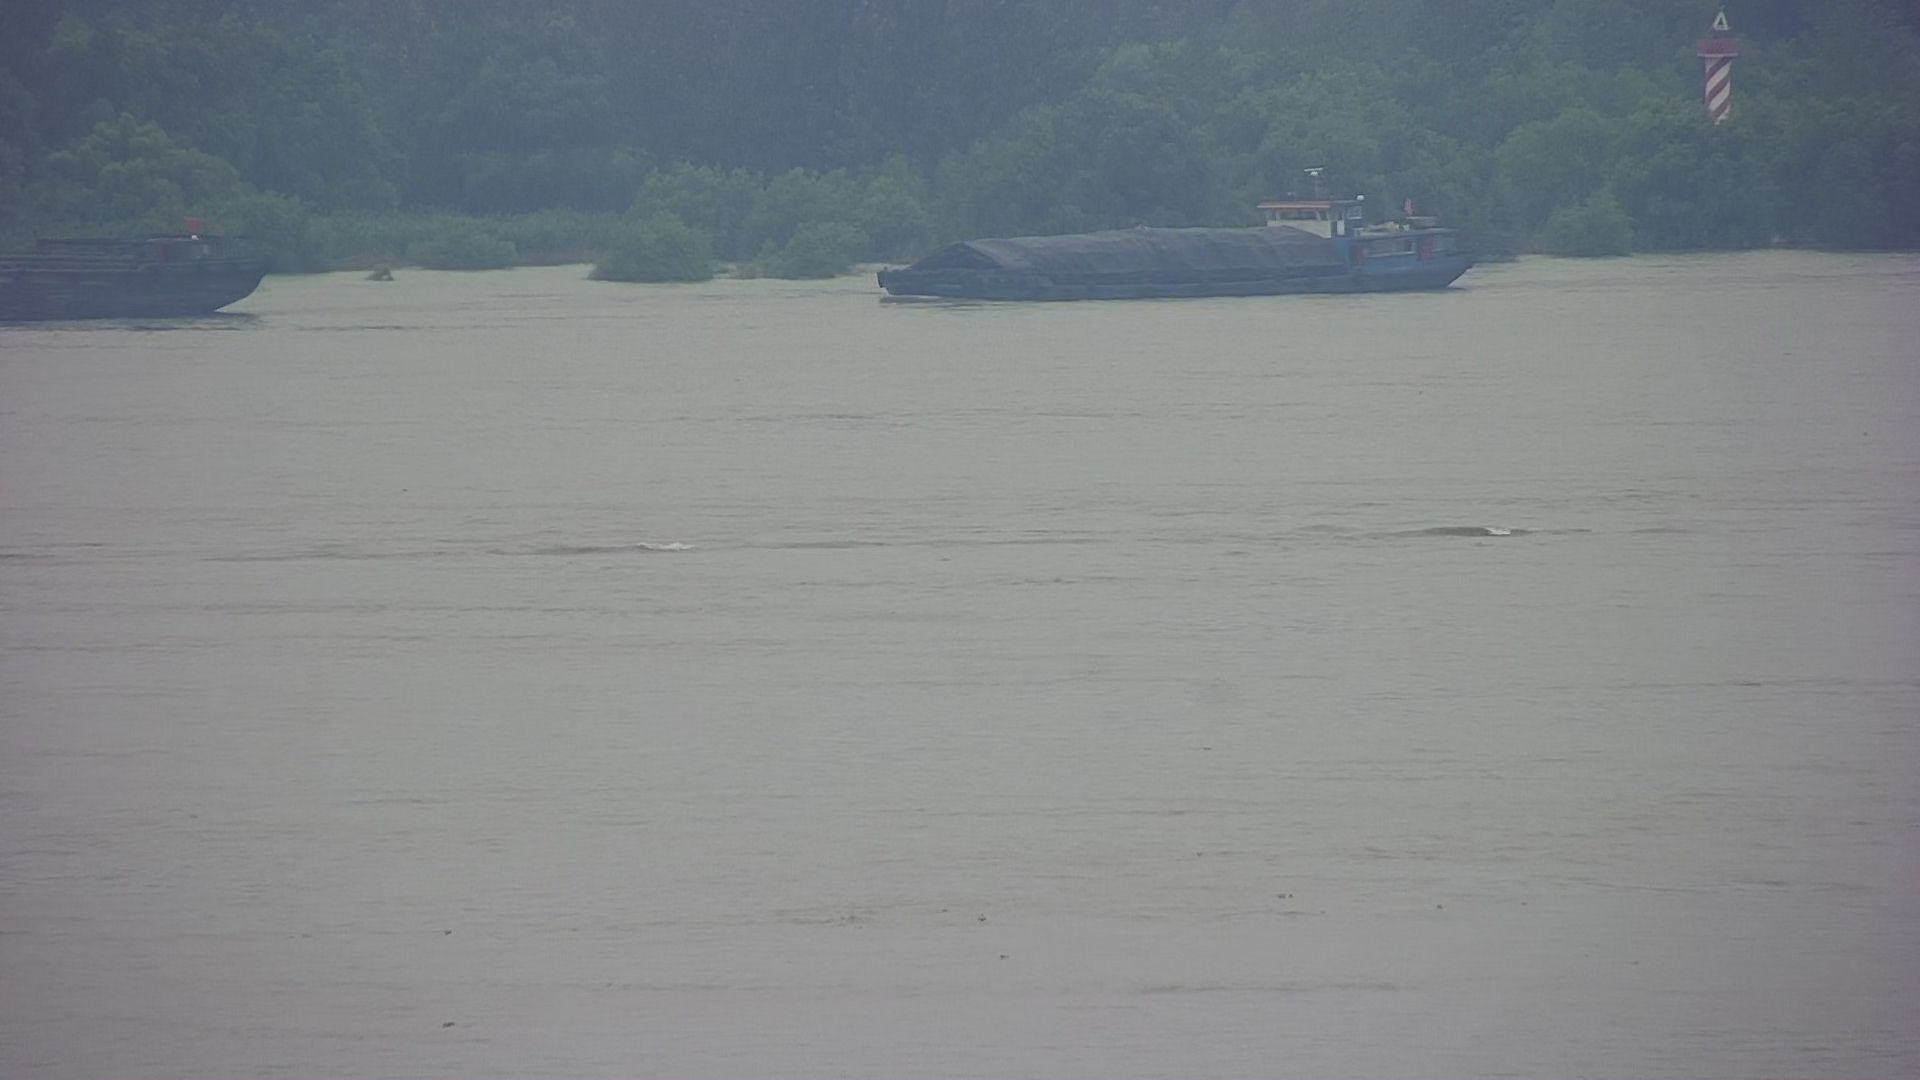ship: (872, 173, 1487, 314), (1, 193, 310, 345)
